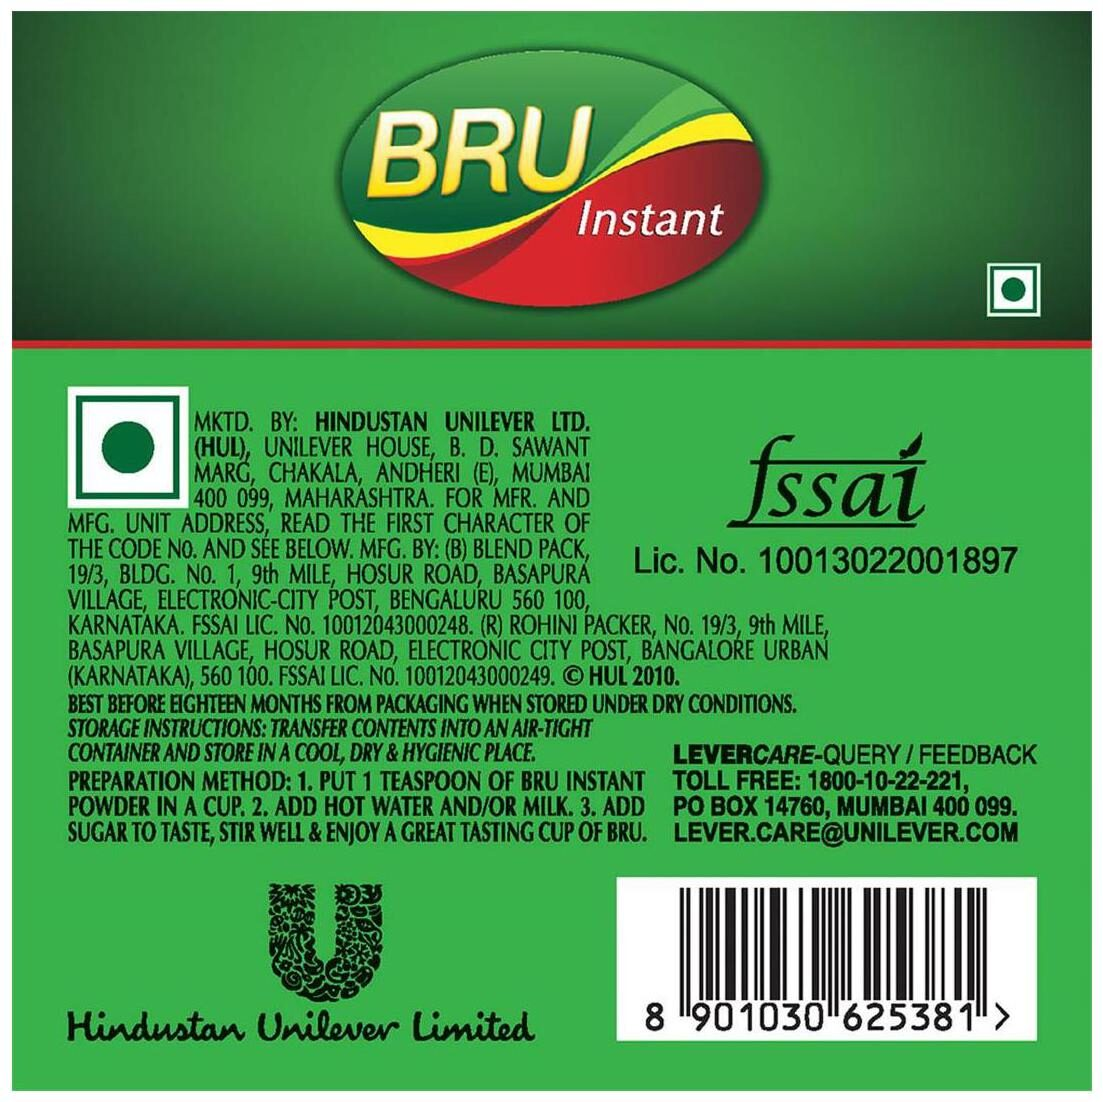fssai: (723, 430, 931, 532)
